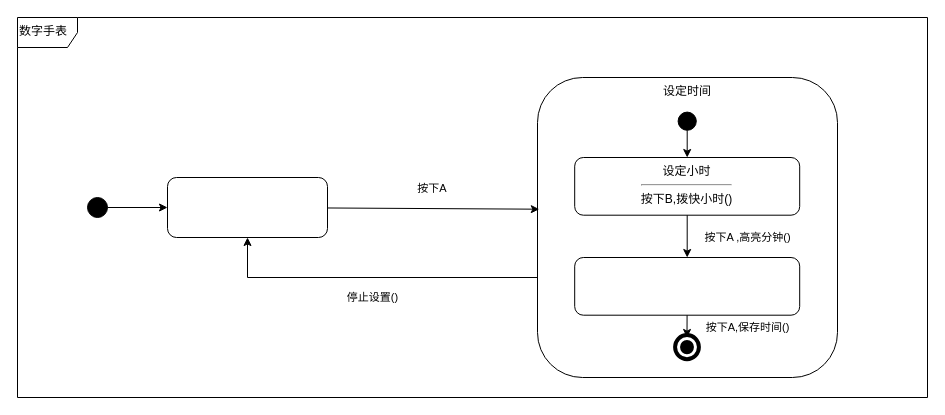
Image size: 945x415. Some labels were removed from this diagram. Each missing label, with the centre of its shape:
"显示时间 显示时间, 冒号闪烁" belongs at point (247, 207).
"设定分钟 按下B,拨快分钟()" belongs at point (687, 285).
